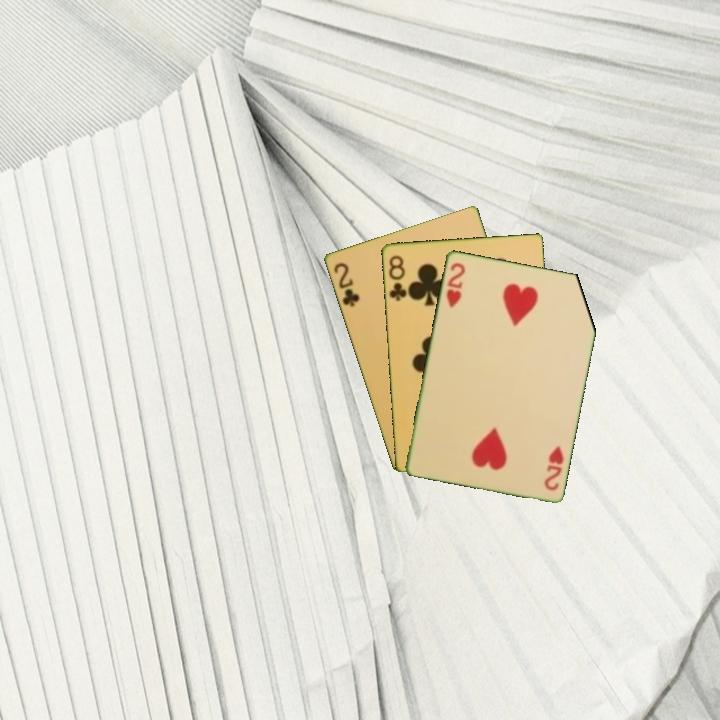2c: (330, 259, 362, 310)
2h: (442, 259, 468, 311), (540, 442, 566, 493)
8c: (385, 251, 409, 304)
